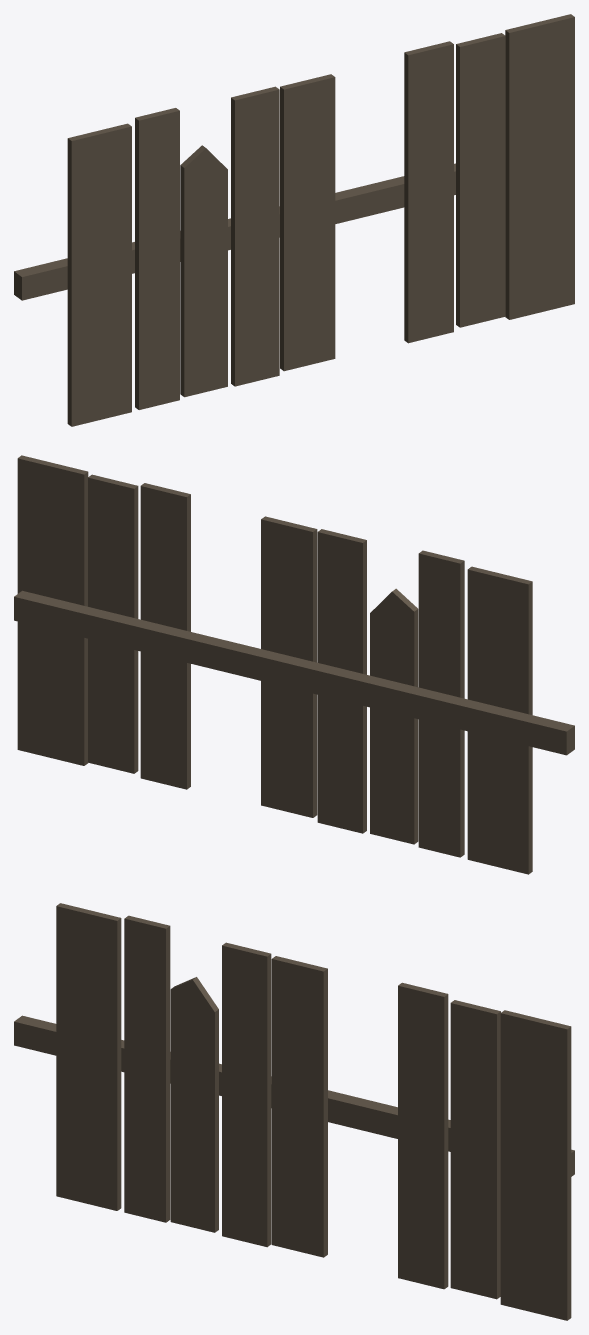
The model's file is bretter_2x1_kaputt.glb.
The picture shows the model from 3 angles, top to bottom: view 1: azimuth 30°, elevation 25°; view 2: azimuth 150°, elevation 25°; view 3: azimuth 330°, elevation 25°; orthographic projection.
Parts seen in each view (by area): view 1: bretter_2x1_kaputt; view 2: bretter_2x1_kaputt; view 3: bretter_2x1_kaputt.
Boxes of the visible parts, bbox=[...] form: bretter_2x1_kaputt: bbox=[14, 14, 574, 426]; bretter_2x1_kaputt: bbox=[14, 455, 574, 874]; bretter_2x1_kaputt: bbox=[14, 903, 574, 1320].
Bounding box in the file's own units: 1.96 × 0.9871 × 0.075.
